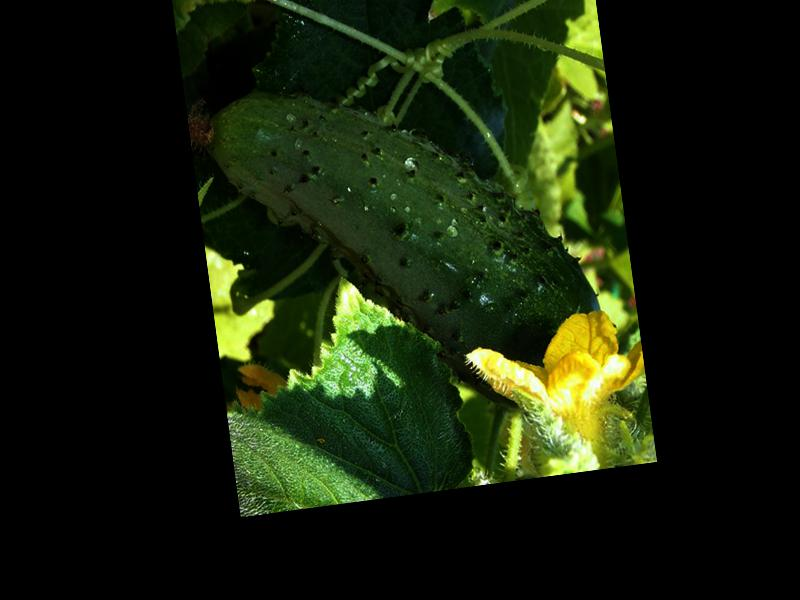Cucumber: (186, 49, 611, 446)
